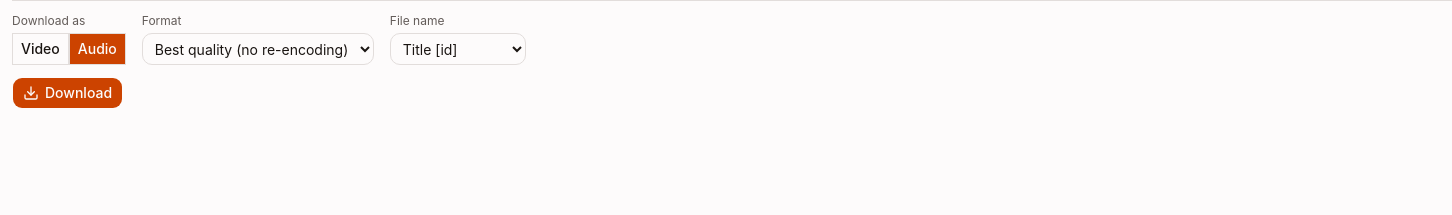
Scenario: audio: bitrate only for lossy formats, with the warnings
This screenshot has width=1452, height=215.
Expected: the text "loses quality" is not shown
Select "MP3" in the dropdown labelled "Format" at (258, 49), box x1=142 y1=33 x2=374 y2=65
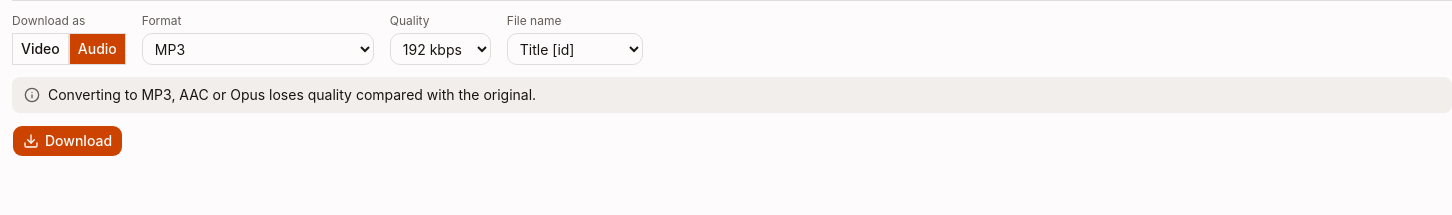
Result: the dropdown labelled "Quality" is shown at x1=390 y1=33 x2=491 y2=65
Result: the list item "loses quality" is shown at x1=48 y1=86 x2=536 y2=103
Select "FLAC" in the dropdown labelled "Format" at (258, 49), box x1=142 y1=33 x2=374 y2=65
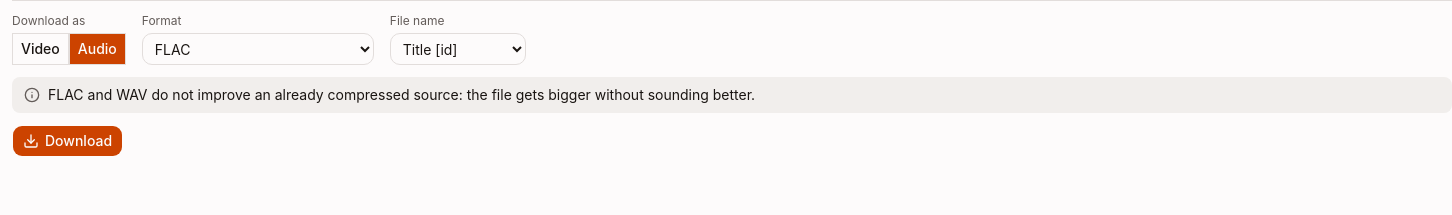
Result: the label labelled "Quality" is gone
Result: the list item "do not improve" is shown at x1=48 y1=86 x2=755 y2=103
Select "WAV" in the dropdown labelled "Format" at (258, 49), box x1=142 y1=33 x2=374 y2=65
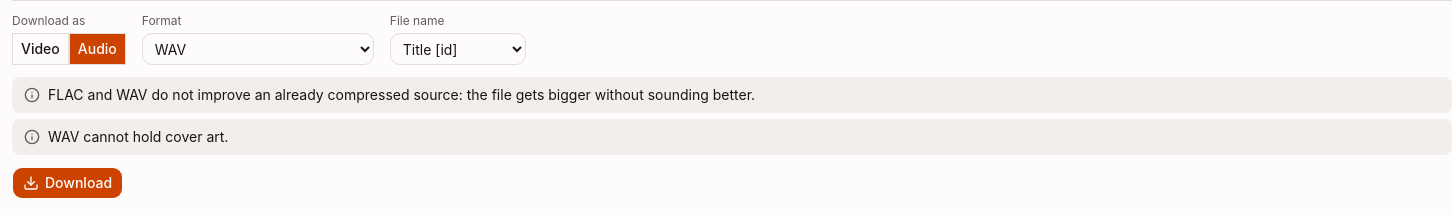
Result: the list item "WAV cannot hold cover art." is shown at x1=12 y1=119 x2=1451 y2=155
